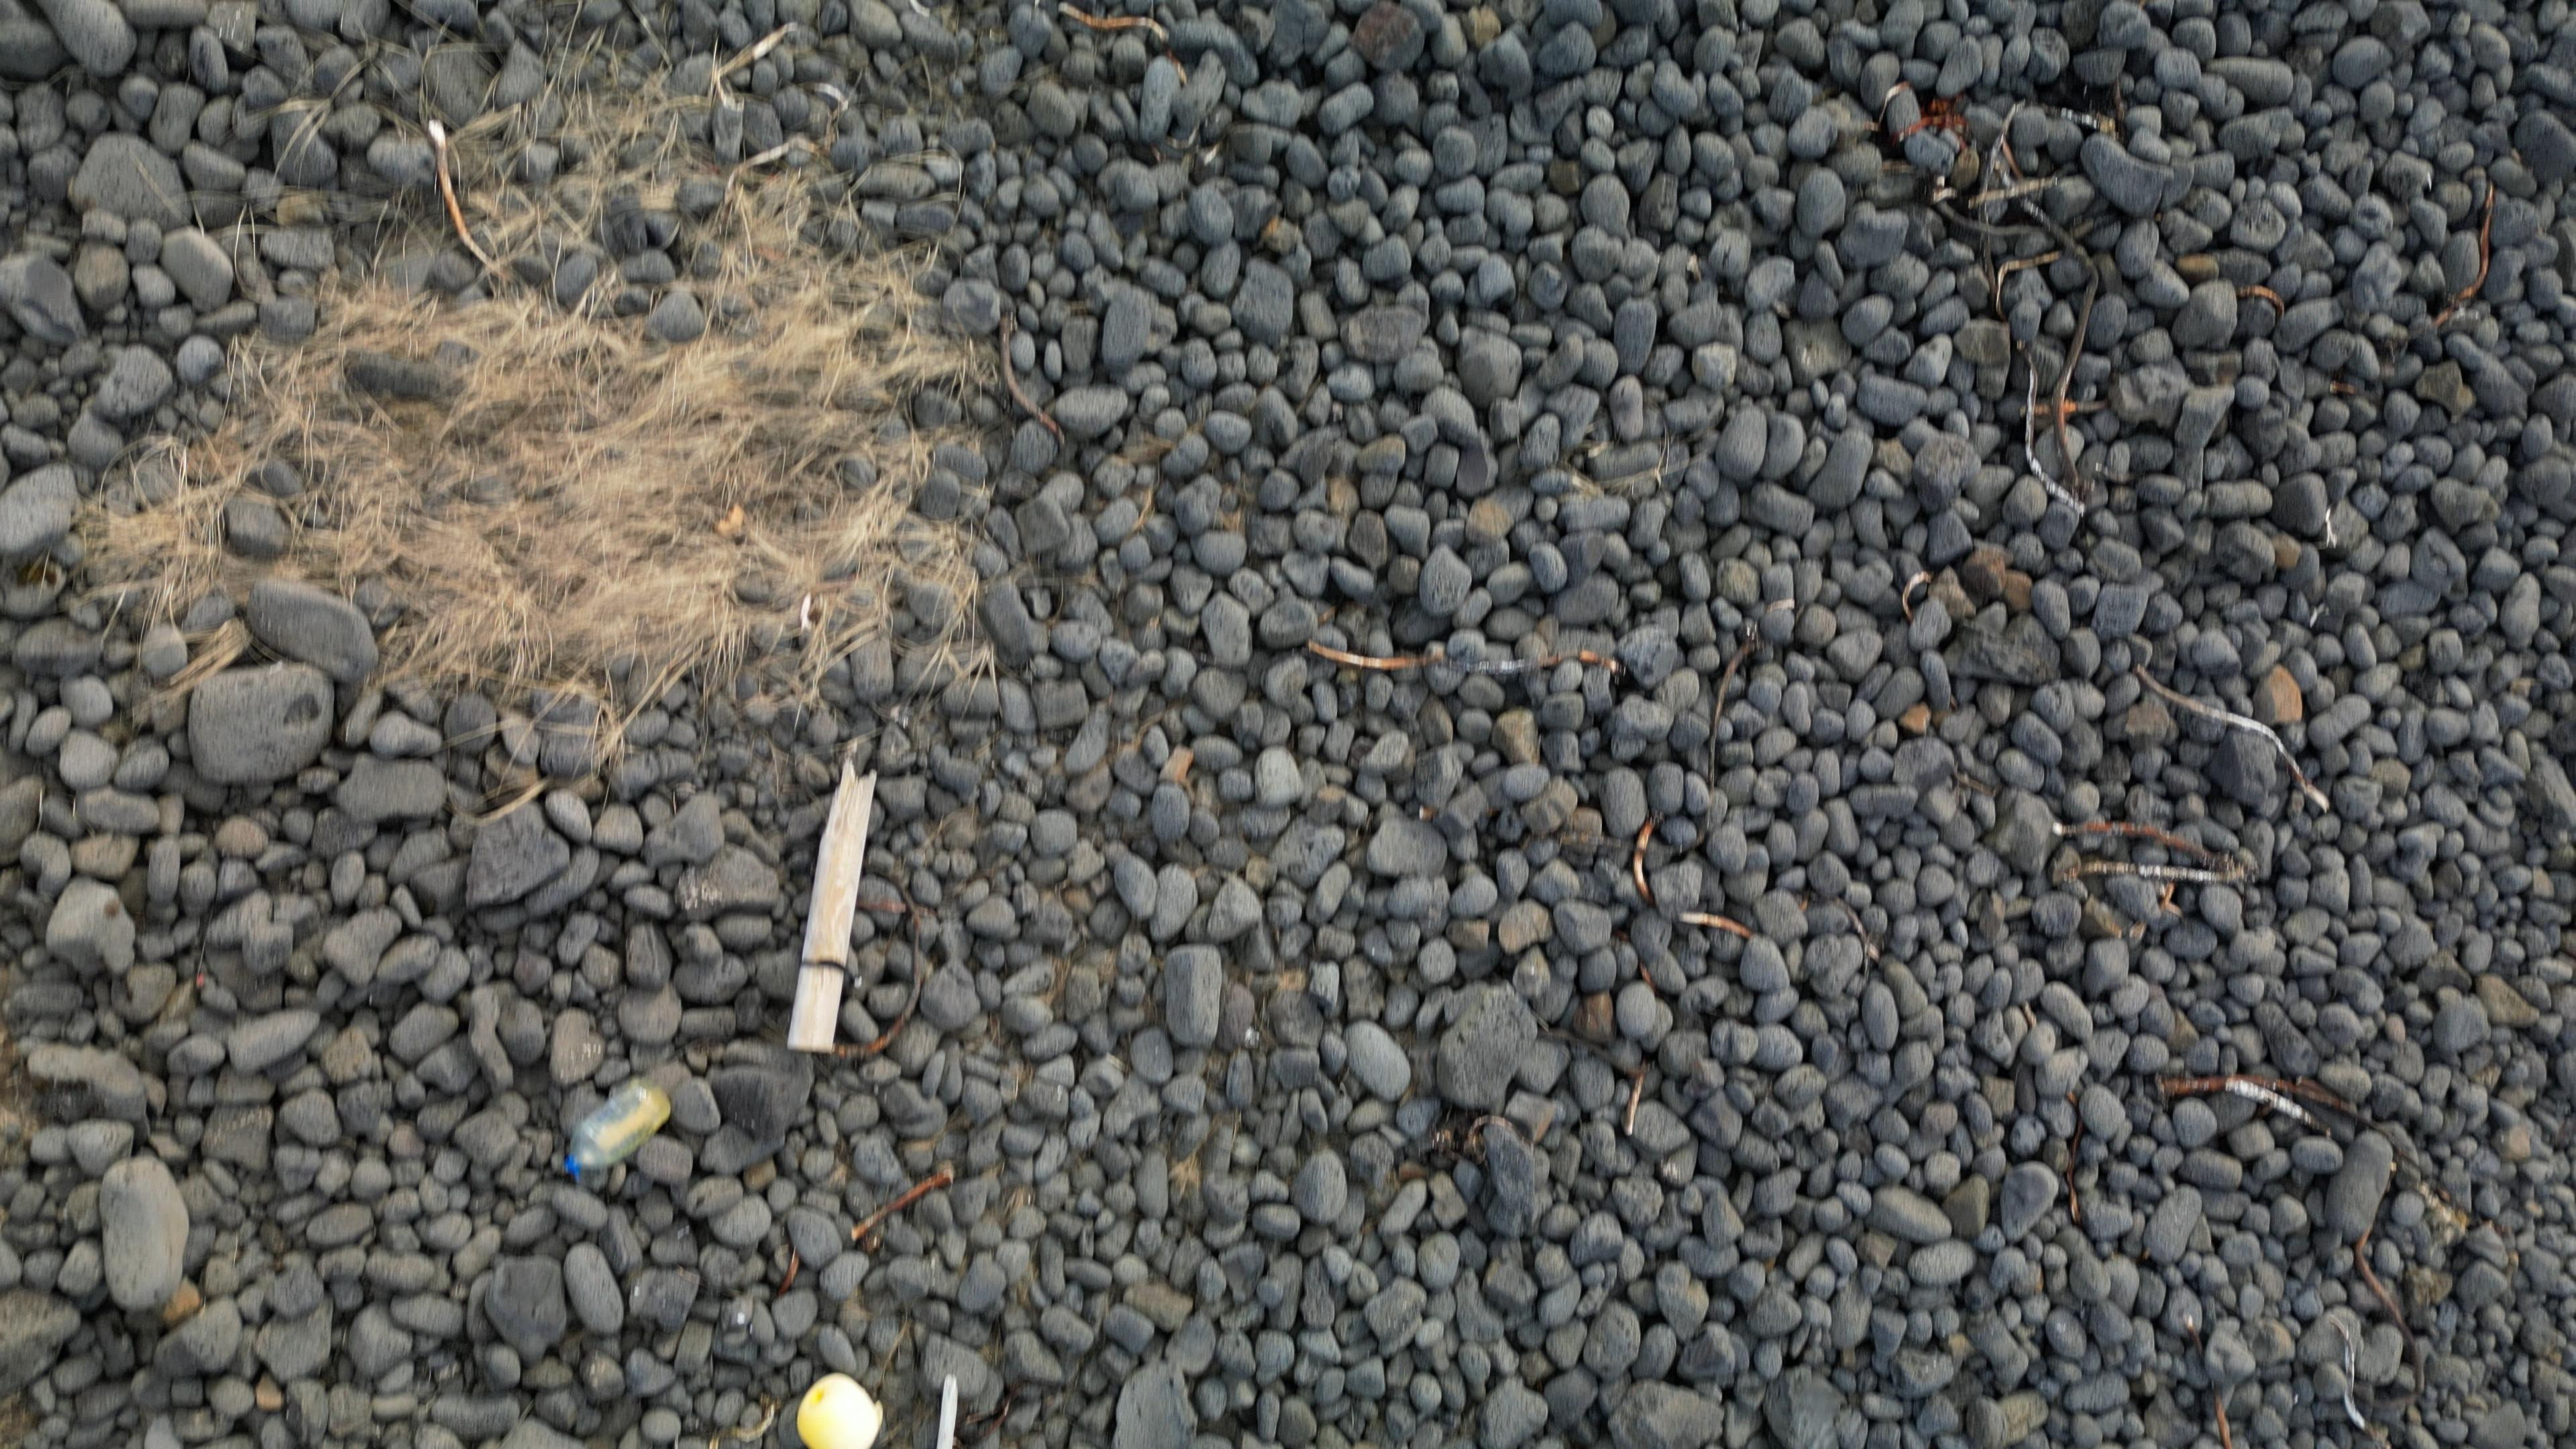trash: (569, 1077, 669, 1187), (795, 1374, 880, 1449)
